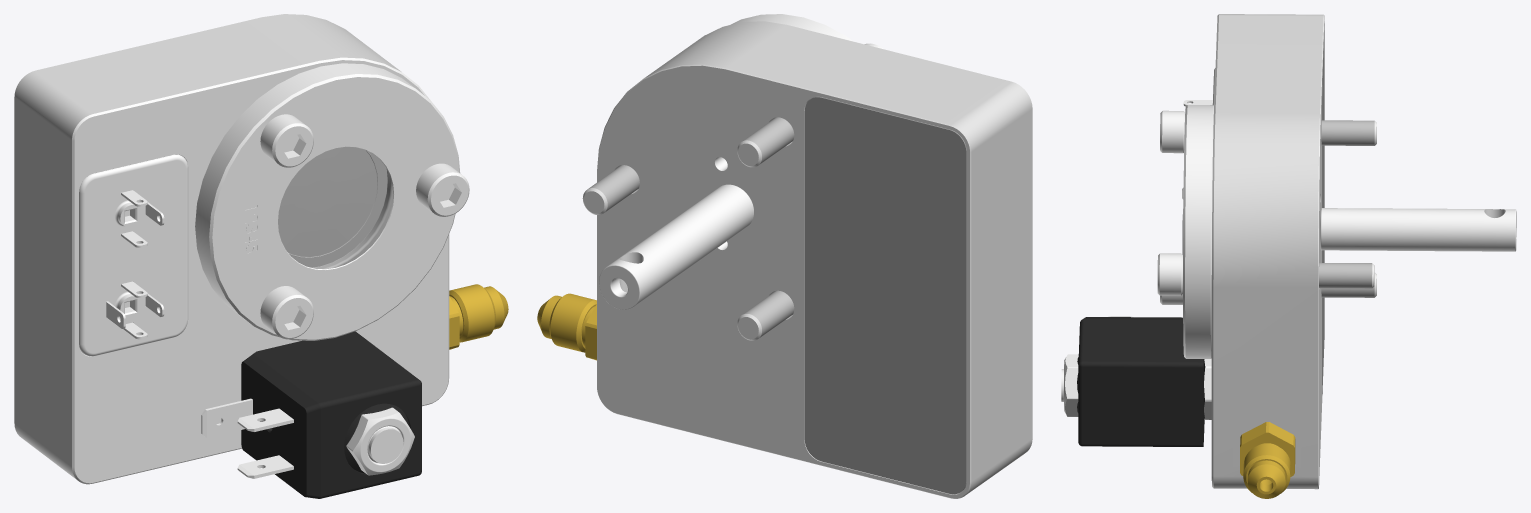
Rendered from COM-Compressor Oil Management.glb.
3 renders of one model, left to right at view 1: azimuth 30°, elevation 25°; view 2: azimuth 150°, elevation 25°; view 3: azimuth 270°, elevation 25°, orthographic. The views are drawn at different scales.
Parts seen in each view (by area): view 1: BASE_UNIT-3D-Correct coil direction, BASE_UNIT-3D-Correct coil direction.006, BASE_UNIT-3D-Correct coil direction.002, BASE_UNIT-3D-Correct coil direction.003; view 2: BASE_UNIT-3D-Correct coil direction, BASE_UNIT-3D-Correct coil direction.006, BASE_UNIT-3D-Correct coil direction.001, BASE_UNIT-3D-Correct coil direction.005, BASE_UNIT-3D-Correct coil direction.003; view 3: BASE_UNIT-3D-Correct coil direction.006, BASE_UNIT-3D-Correct coil direction, BASE_UNIT-3D-Correct coil direction.001, BASE_UNIT-3D-Correct coil direction.003, BASE_UNIT-3D-Correct coil direction.005.
Part boxes in pixels (x1=…): BASE_UNIT-3D-Correct coil direction: x1=72, y1=57, x2=469, y2=498; BASE_UNIT-3D-Correct coil direction.006: x1=14, y1=14, x2=401, y2=479; BASE_UNIT-3D-Correct coil direction.002: x1=278, y1=147, x2=392, y2=268; BASE_UNIT-3D-Correct coil direction.003: x1=449, y1=284, x2=508, y2=349; BASE_UNIT-3D-Correct coil direction: x1=597, y1=14, x2=971, y2=498; BASE_UNIT-3D-Correct coil direction.006: x1=645, y1=21, x2=1032, y2=495; BASE_UNIT-3D-Correct coil direction.001: x1=599, y1=184, x2=753, y2=309; BASE_UNIT-3D-Correct coil direction.005: x1=582, y1=117, x2=794, y2=340; BASE_UNIT-3D-Correct coil direction.003: x1=537, y1=293, x2=596, y2=360; BASE_UNIT-3D-Correct coil direction.006: x1=1213, y1=14, x2=1323, y2=489; BASE_UNIT-3D-Correct coil direction: x1=1061, y1=14, x2=1324, y2=488; BASE_UNIT-3D-Correct coil direction.001: x1=1321, y1=208, x2=1516, y2=251; BASE_UNIT-3D-Correct coil direction.003: x1=1240, y1=422, x2=1295, y2=498; BASE_UNIT-3D-Correct coil direction.005: x1=1319, y1=120, x2=1376, y2=297.
Bounding box in the file's own units: 0.257 × 0.1982 × 0.25.
